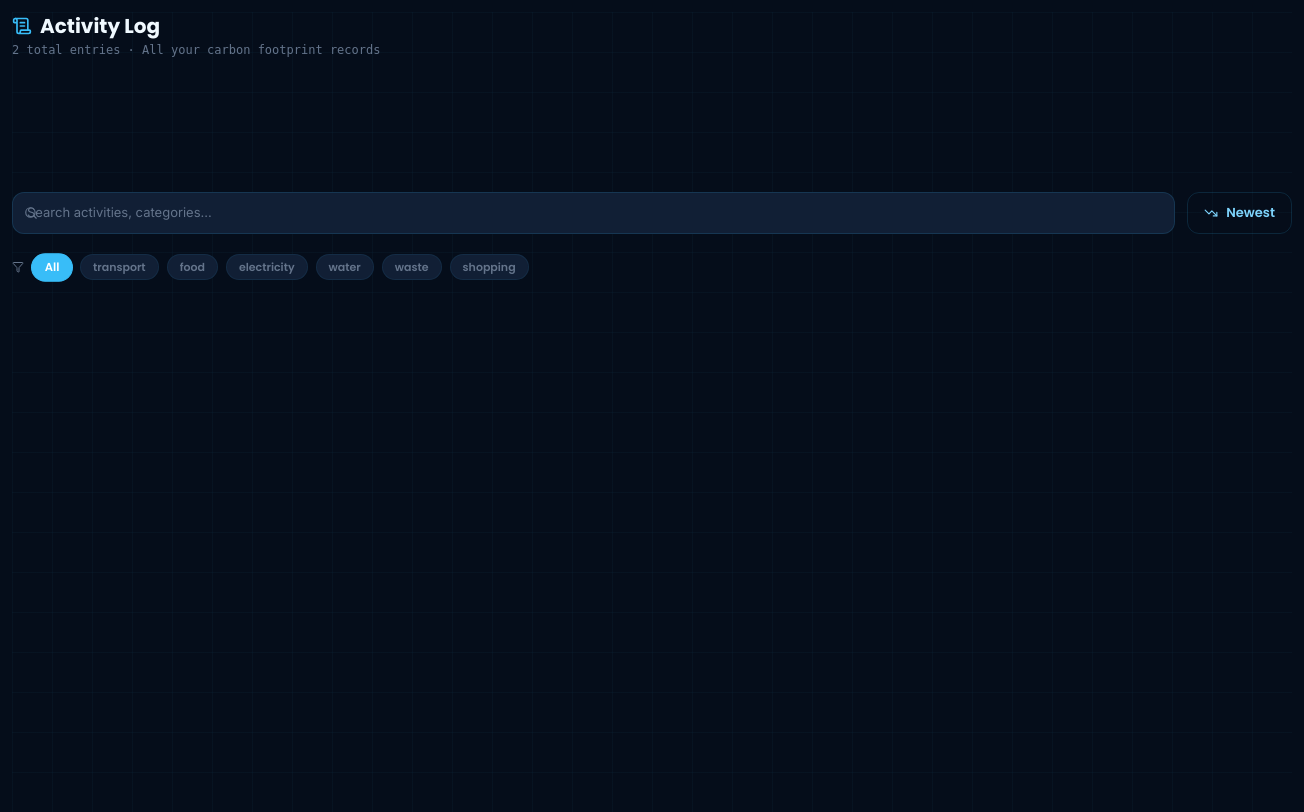
Test: LogsTab › filters logs by search query
The image size is (1304, 812).
Type "burger" into the field with placeholder "Search activities, categories..." at coordinates (594, 213), box [12,192,1175,234]
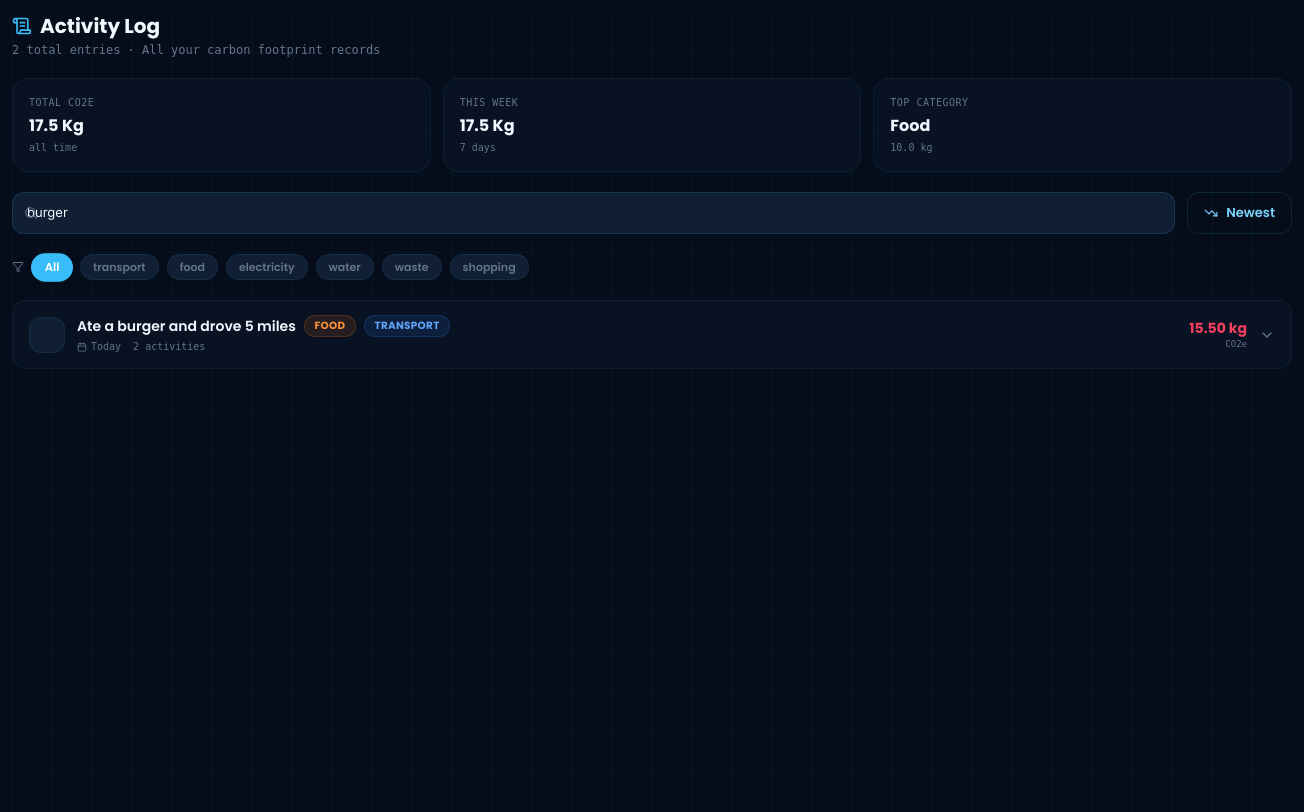
Expected: the text "Ate a burger and drove 5 miles" is shown, [77,316,296,336]
